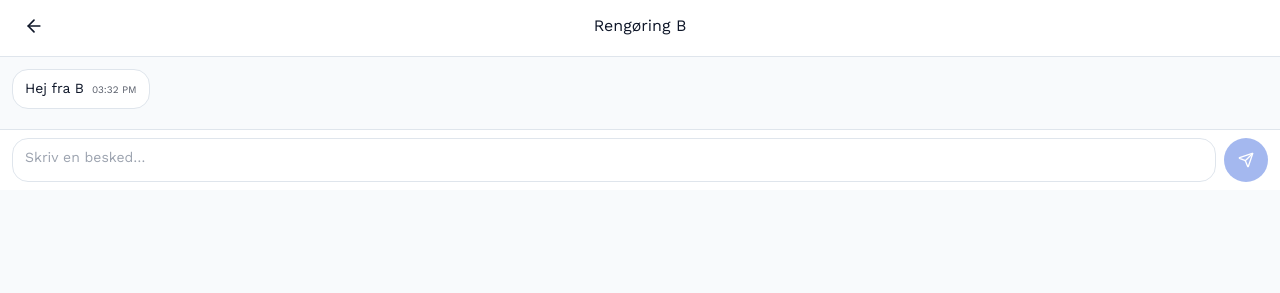
Test case: Mobile conversation switch (A -> B while A is loading) › scopes channels + data strictly to the active conversation
Check: the text "Rengøring B" is shown, box 594,16 -> 686,35
Check: the text "Hej fra B" is shown, box 25,80 -> 84,96
# Sending from B must always target conversation-b.
Type "sender fra B" into the text box with id "mobile-composer" at (614, 160), box 12,138 -> 1216,182
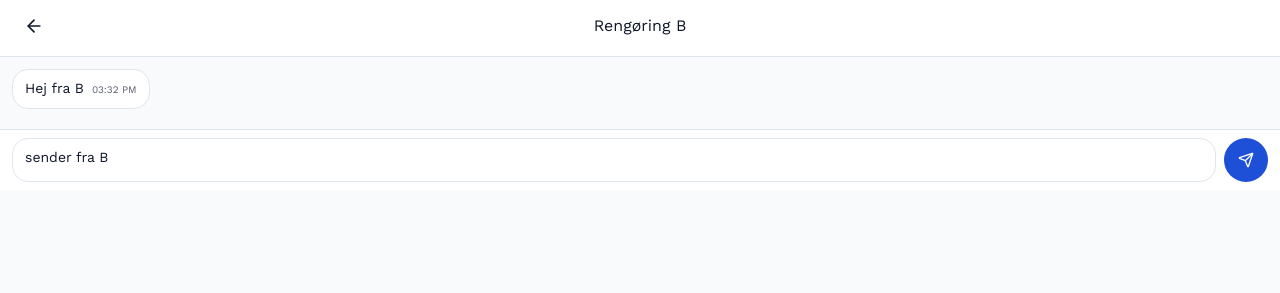
Submit the form with id "mobile-composer", box 0,129 -> 1279,190
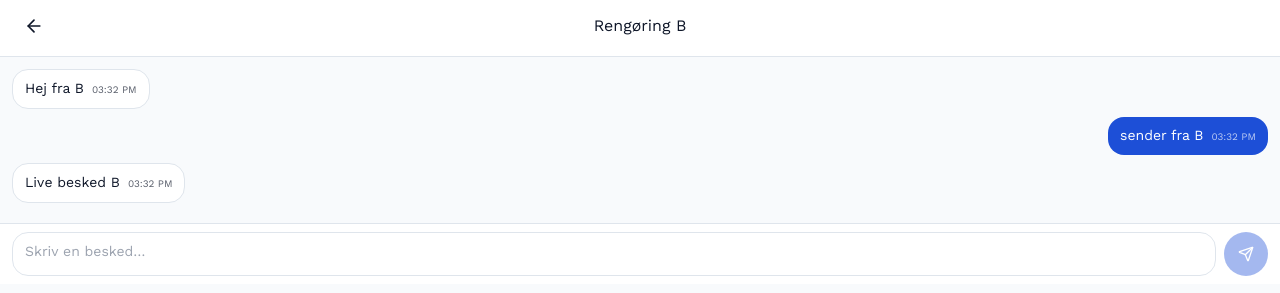
Check: the text "Live besked B" is shown, box 25,174 -> 120,190
